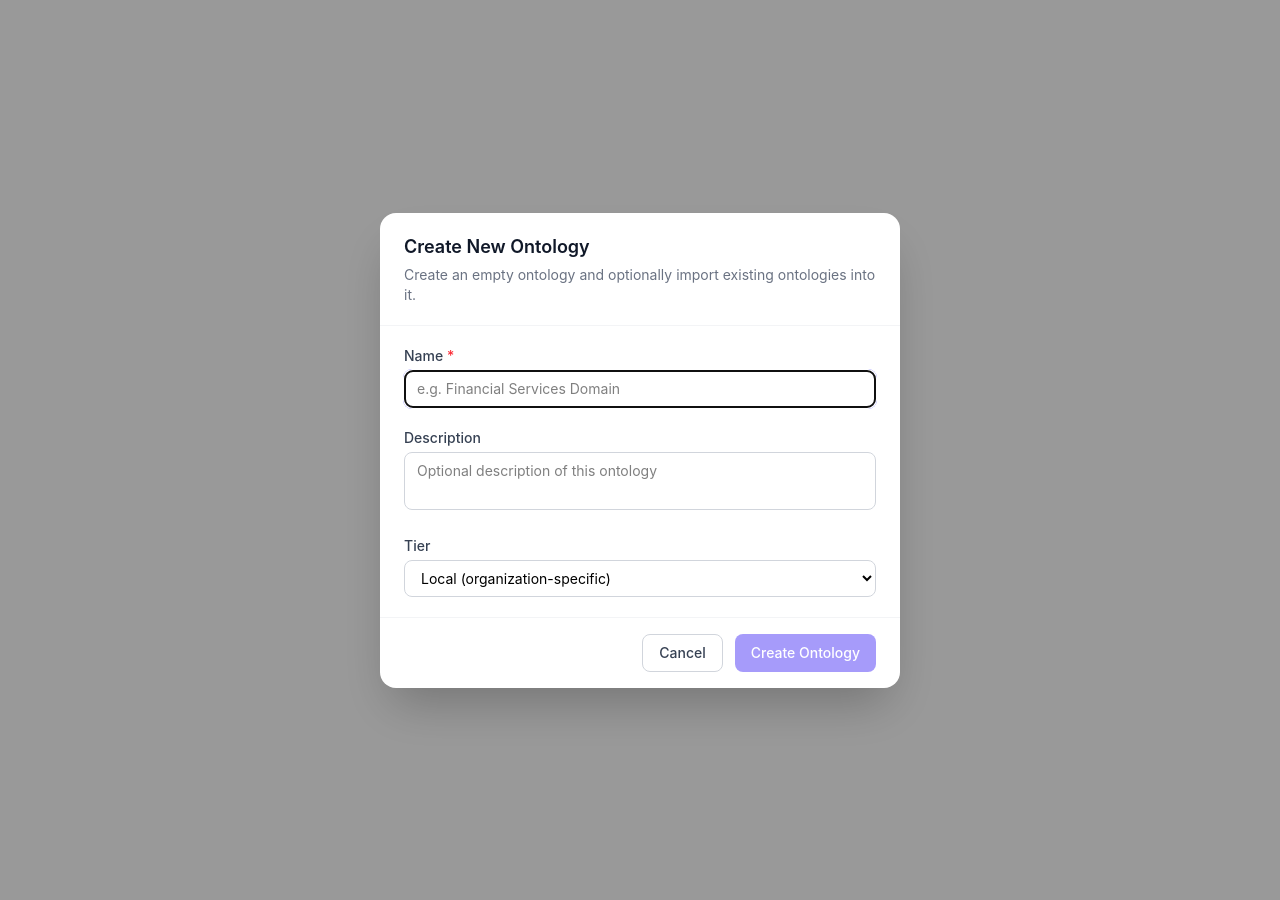
it: CreateOntologyDialog › enables create button after entering a name
In the field with placeholder "e.g. Financial Services Domain": coordinates (640, 388) top-left (404, 370), bottom-right (876, 408), type "My Ontology"
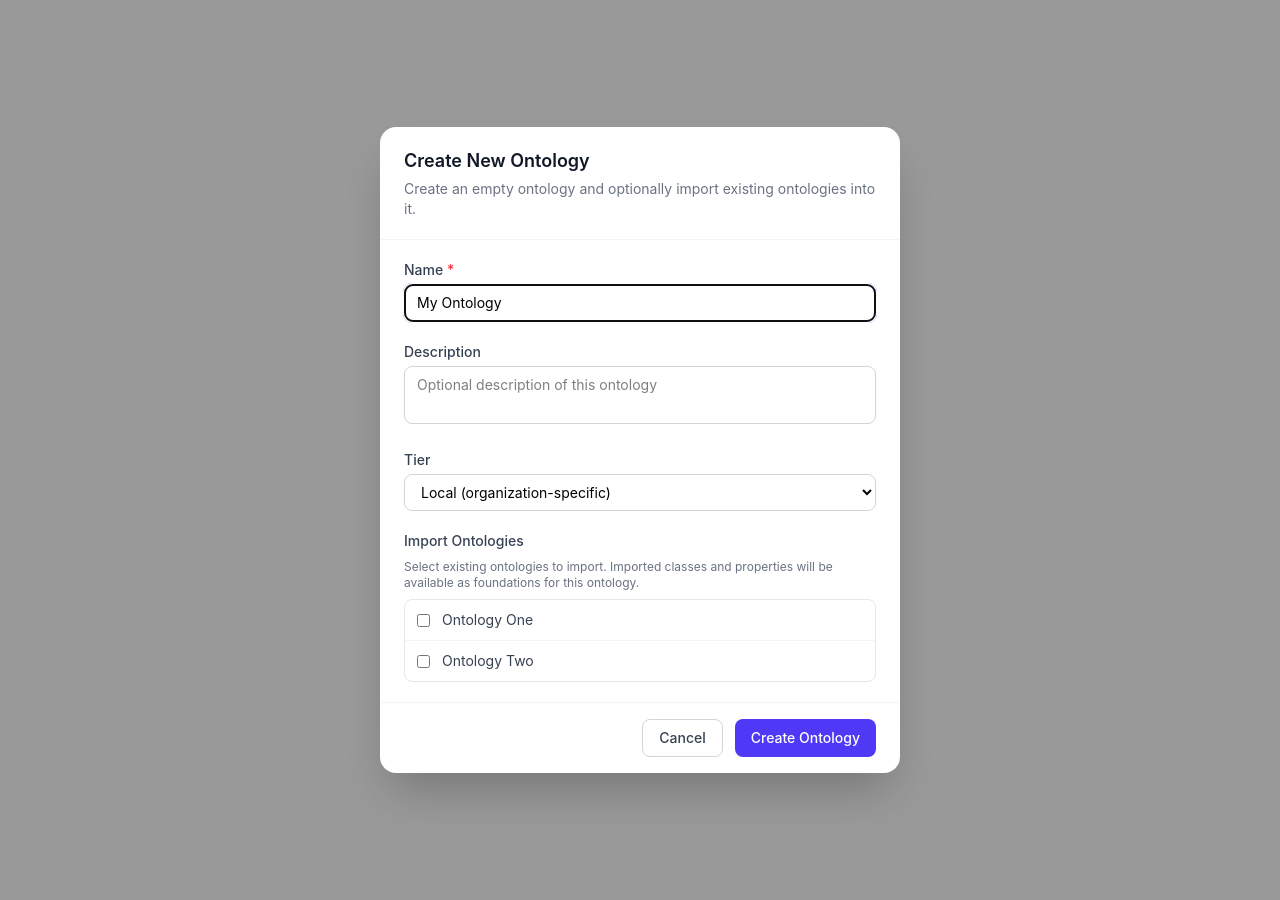
Expected: the button "Create Ontology" is enabled, top-left (735, 719), bottom-right (876, 757)
